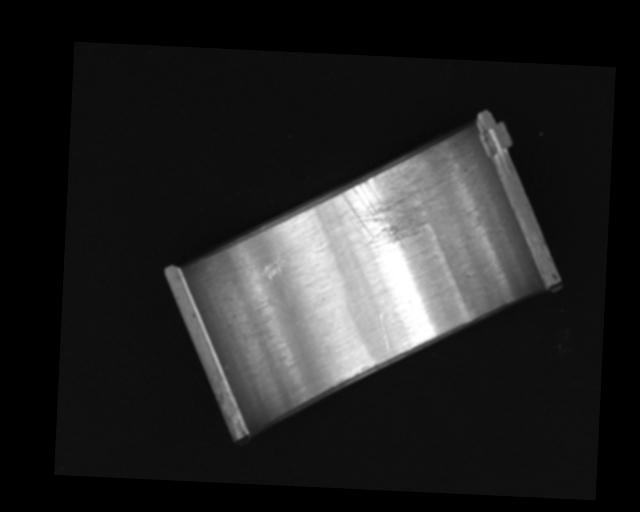bruise: (261, 255, 291, 281)
nick: (377, 312, 391, 354)
scratch: (338, 139, 440, 252)
